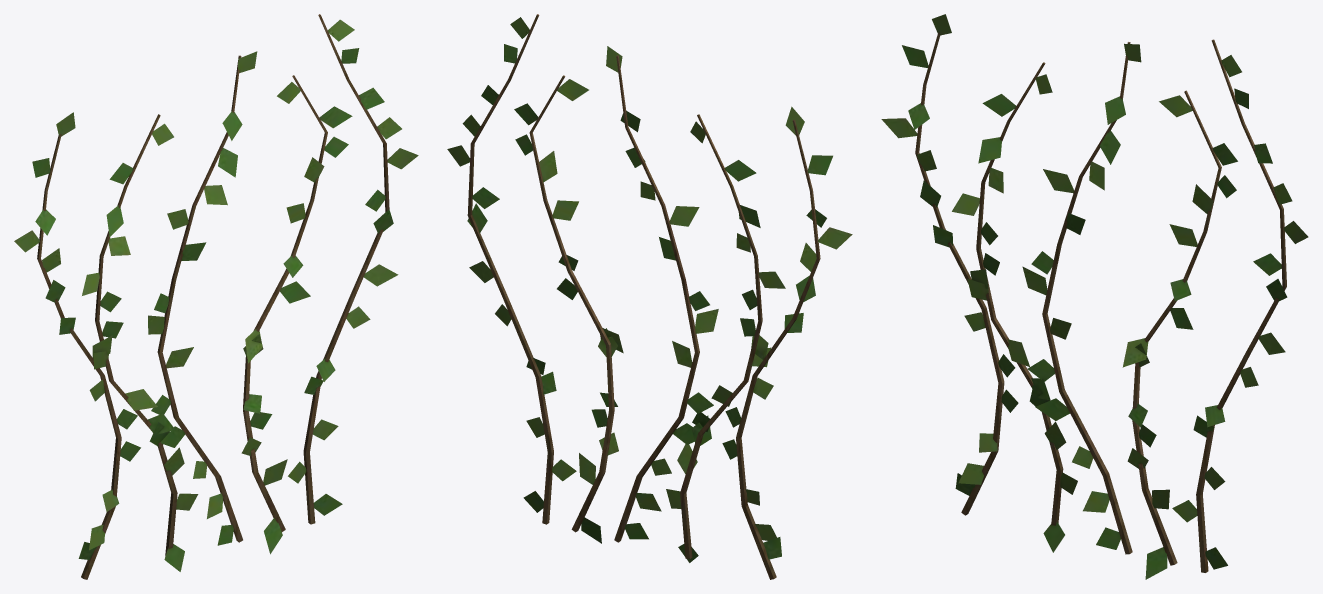
File: vine_wall_idle.glb
3 renders of one model, left to right at view 1: azimuth 30°, elevation 25°; view 2: azimuth 150°, elevation 25°; view 3: azimuth 330°, elevation 25°, orthographic. The views are drawn at different scales.
Visible parts, largest first — view 1: vine_wall; view 2: vine_wall; view 3: vine_wall.
Part boxes in pixels (box(x1,y1,x2,y2)): vine_wall: box(14, 14, 418, 579); vine_wall: box(447, 14, 852, 579); vine_wall: box(881, 14, 1308, 579).
Bounding box in the file's own units: 1.16 × 1.42 × 0.0429.
Materials: 1 (1 with a texture image).
